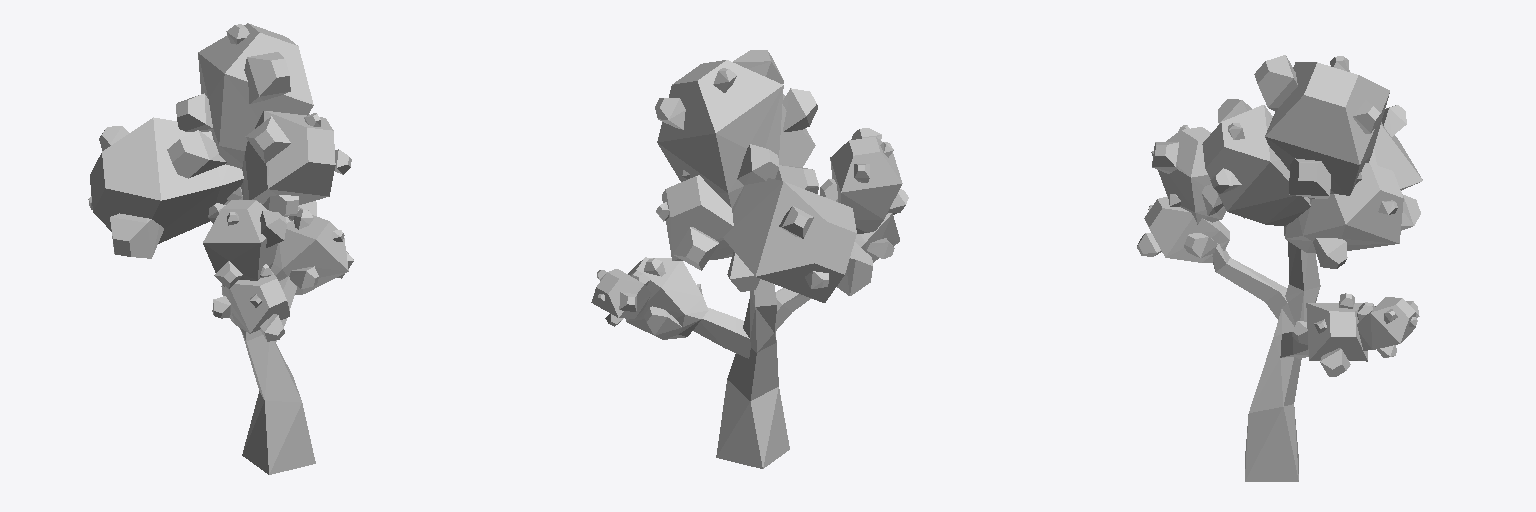
The model's file is tree2.obj.
The picture shows the model from 3 angles: view 1: azimuth 30°, elevation 25°; view 2: azimuth 150°, elevation 25°; view 3: azimuth 270°, elevation 25°; orthographic projection.
Visible parts, largest first — view 1: Tree; view 2: Tree; view 3: Tree.
Boxes of the visible parts, x1=… form: Tree: x1=88, y1=23, x2=353, y2=474; Tree: x1=591, y1=50, x2=908, y2=468; Tree: x1=1137, y1=55, x2=1422, y2=481.
Bounding box in the file's own units: 10.59 × 16.73 × 10.6.